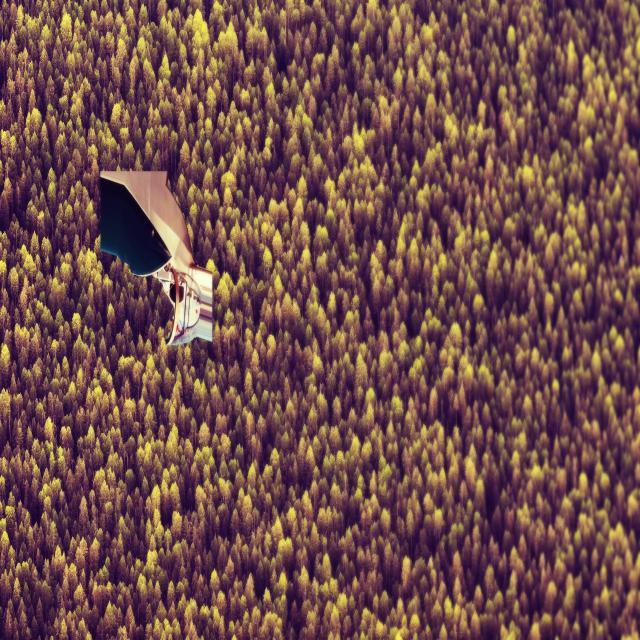airplane: (98, 168, 214, 347)
